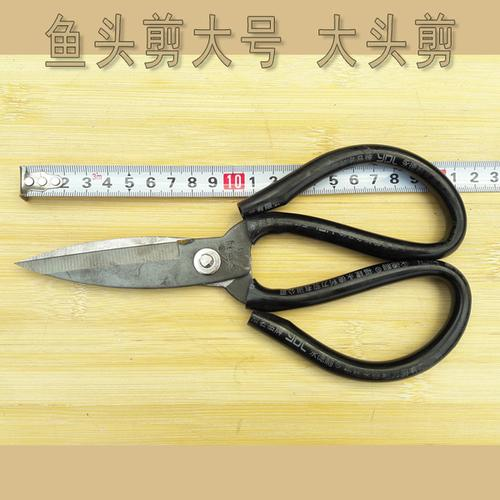scissor: (14, 144, 471, 383)
